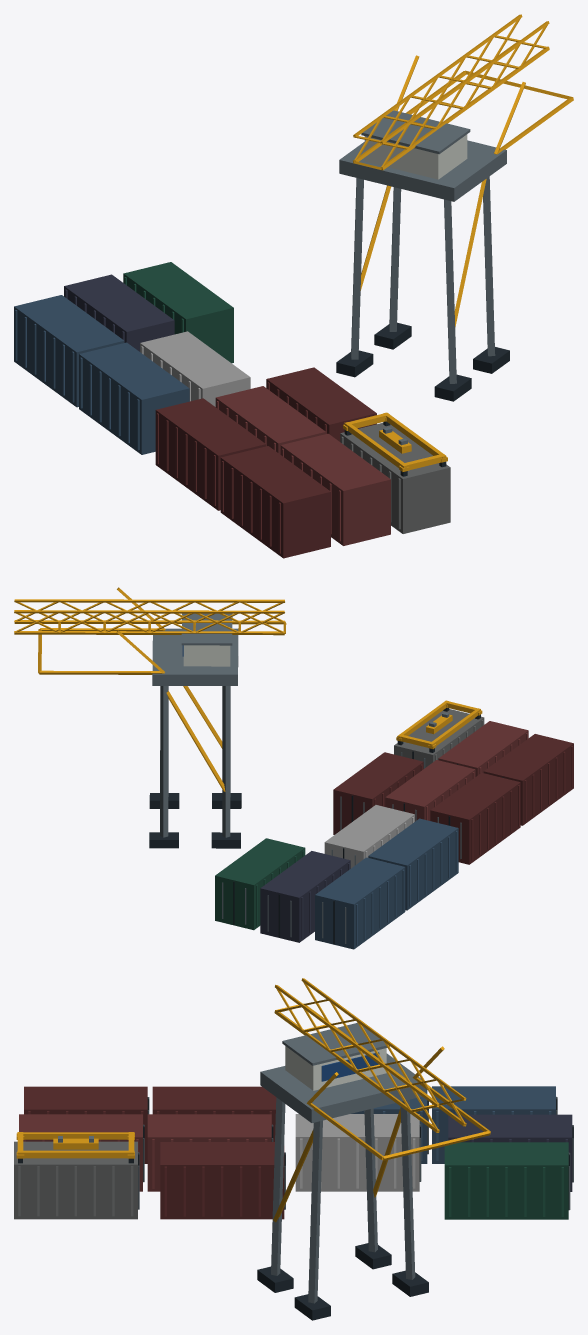
Rendered from SeaportSystem-02-ShipToShoreGantryCrane-01-20Footer-1-02.glb.
3 renders of one model, top to bottom at view 1: azimuth 30°, elevation 25°; view 2: azimuth 150°, elevation 25°; view 3: azimuth 270°, elevation 25°, orthographic. The views are drawn at different scales.
Visible parts, largest first — view 1: SeaportSystem-02-ShipToShoreGantryCrane-01-20Footer-1-02; view 2: SeaportSystem-02-ShipToShoreGantryCrane-01-20Footer-1-02; view 3: SeaportSystem-02-ShipToShoreGantryCrane-01-20Footer-1-02.
Part boxes in pixels (x1,y1,x2,y2): SeaportSystem-02-ShipToShoreGantryCrane-01-20Footer-1-02: [14, 14, 573, 558]; SeaportSystem-02-ShipToShoreGantryCrane-01-20Footer-1-02: [14, 587, 573, 949]; SeaportSystem-02-ShipToShoreGantryCrane-01-20Footer-1-02: [14, 978, 573, 1320].
Size of the model in its own units: 57.92 by 31.18 by 59.64.
